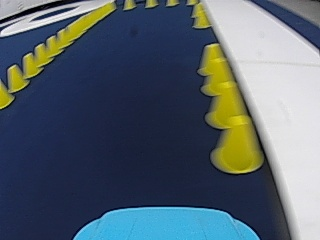cone: (203, 55, 261, 147), (210, 97, 264, 172), (205, 78, 249, 128), (198, 43, 236, 97), (6, 64, 27, 91), (200, 74, 222, 97), (192, 4, 210, 28), (21, 52, 37, 78), (32, 43, 48, 67), (0, 83, 13, 107), (44, 35, 57, 56), (123, 0, 135, 10)
